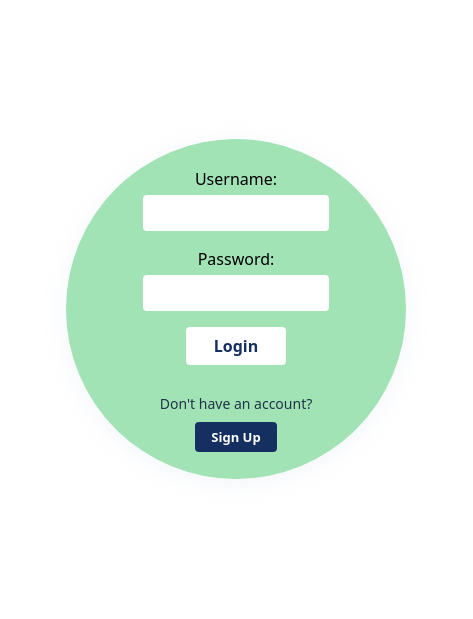
App Component › Sign-up Form › should show success message on successful sign-up
Click the button "Sign Up".
click(236, 436)  # box [195, 422, 277, 452]
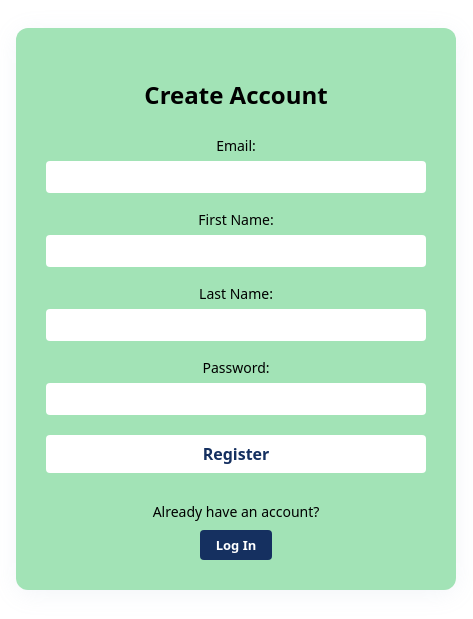
Type "test@example.com" into the field below "Email:".
click(236, 178); type("test@example.com")  # box [46, 162, 426, 194]
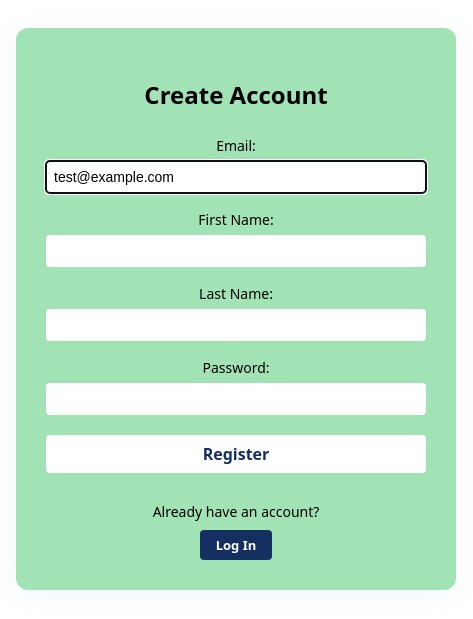
Type "John" into the field below "First Name:".
click(236, 252); type("John")  # box [46, 236, 426, 268]
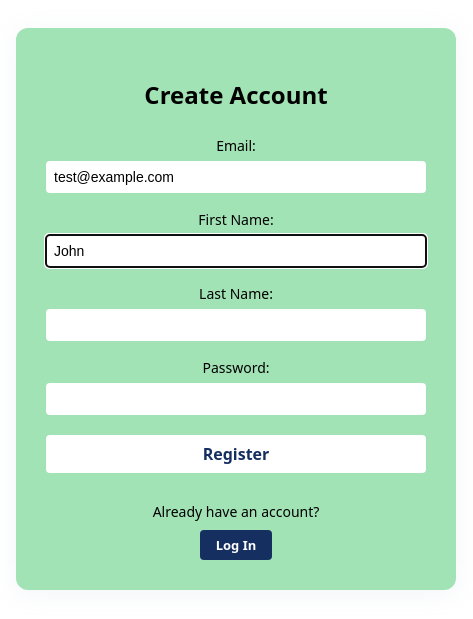
Type "Doe" into the field below "Last Name:".
click(236, 326); type("Doe")  # box [46, 310, 426, 342]
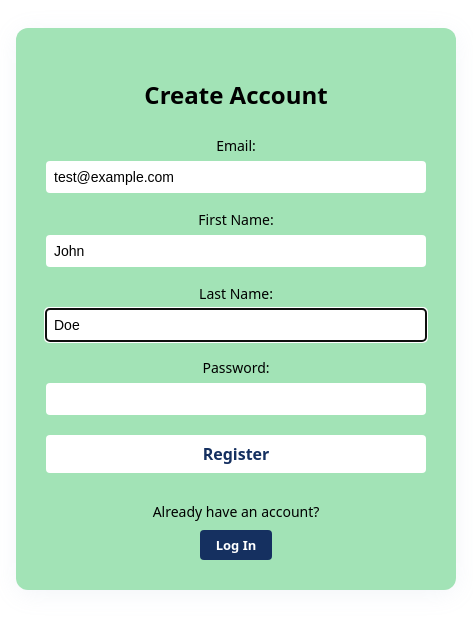
Type "password123" into the password field.
click(236, 400); type("password123")  # box [46, 384, 426, 416]
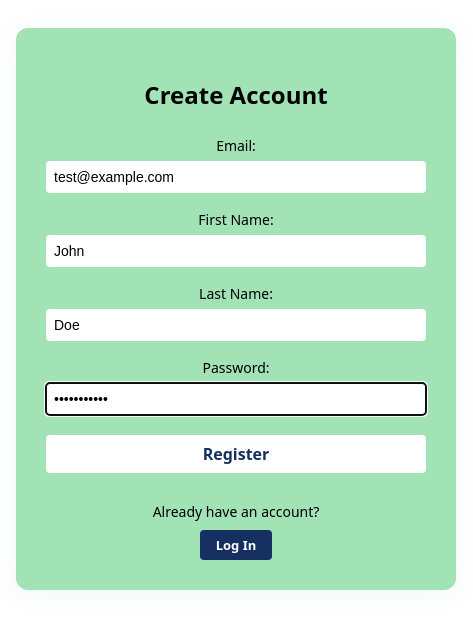
Click the button "Register".
click(236, 454)  # box [46, 436, 426, 474]
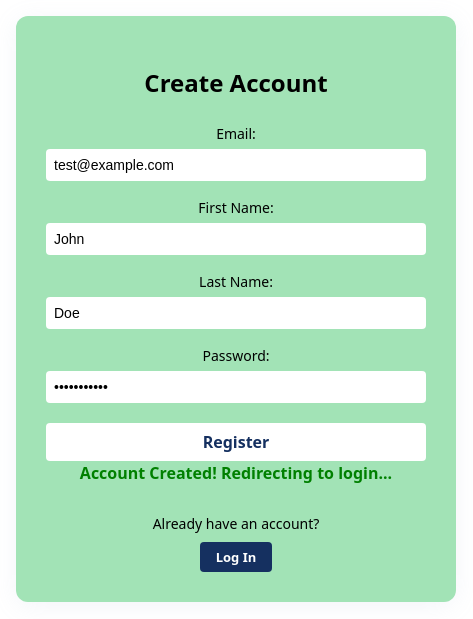
expect the text "Account Created! Redirecting to login..." is shown: met, box [80, 462, 392, 486]
